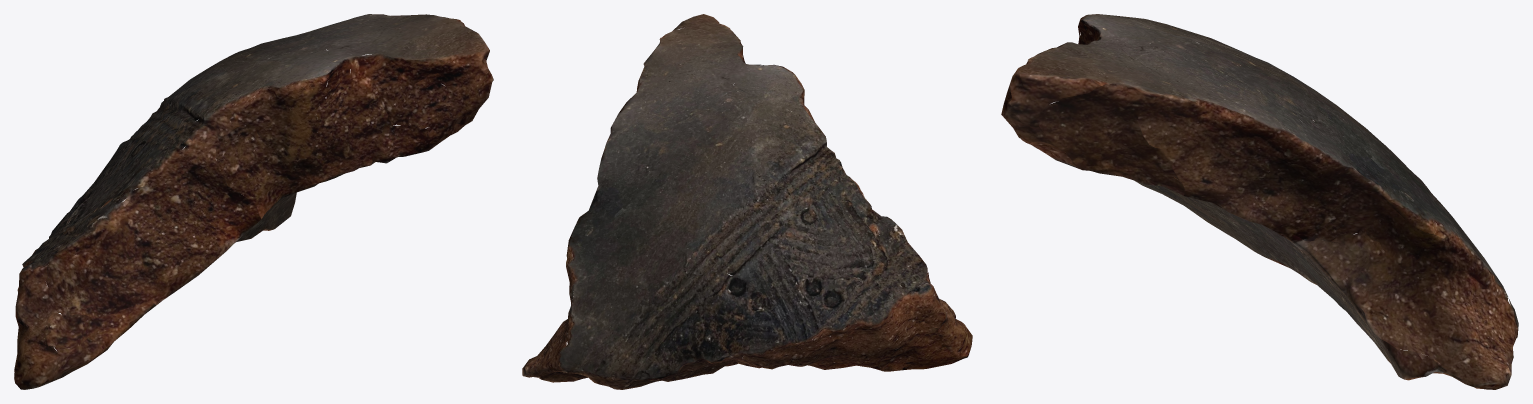
File: piece9_10000_resHi.glb
3 views of the same model, side by side, from view 1: azimuth 30°, elevation 25°; view 2: azimuth 150°, elevation 25°; view 3: azimuth 270°, elevation 25° (orthographic). The views are drawn at different scales.
Size of the model in its own units: 0.0872 by 0.0613 by 0.0877.
Materials: 1 (1 with a texture image).
